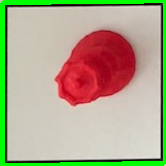Red Queen: (52, 26, 138, 107)
